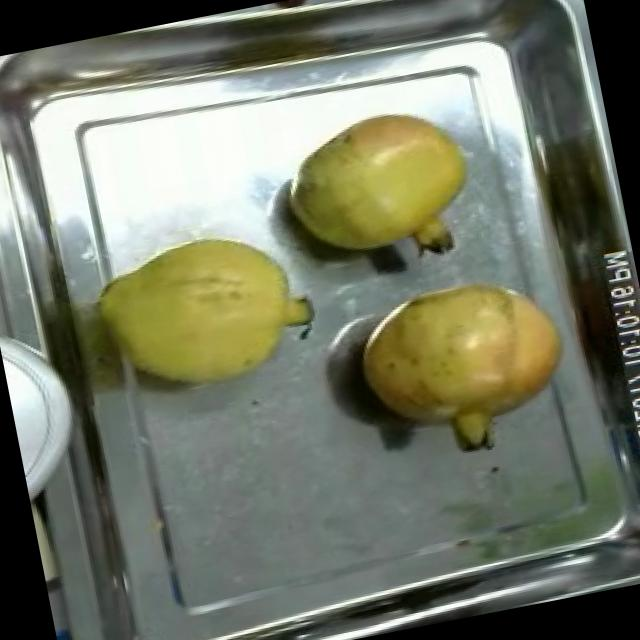fruit: (338, 252, 592, 476), (77, 209, 338, 418), (262, 90, 496, 288)
